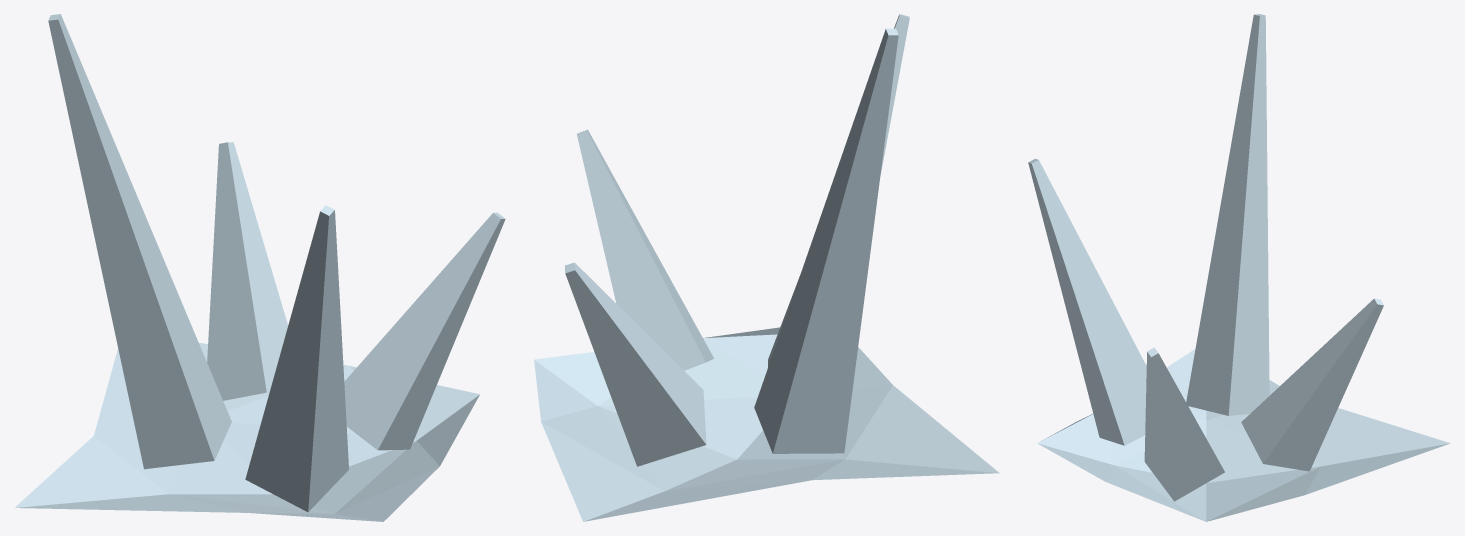
Rendered from ice_shard_v04.glb.
3 views of the same model, side by side, from view 1: azimuth 30°, elevation 25°; view 2: azimuth 150°, elevation 25°; view 3: azimuth 270°, elevation 25° (orthographic). The views are drawn at different scales.
Parts seen in each view (by area): view 1: lod0; view 2: lod0; view 3: lod0.
Part boxes in pixels (left/top/right/bottom): lod0: left=15, top=14, right=505, bottom=521; lod0: left=534, top=14, right=999, bottom=521; lod0: left=1028, top=14, right=1450, bottom=521.
Size of what is drawn, in the model's own units: 0.7076 by 0.7257 by 0.7011.
